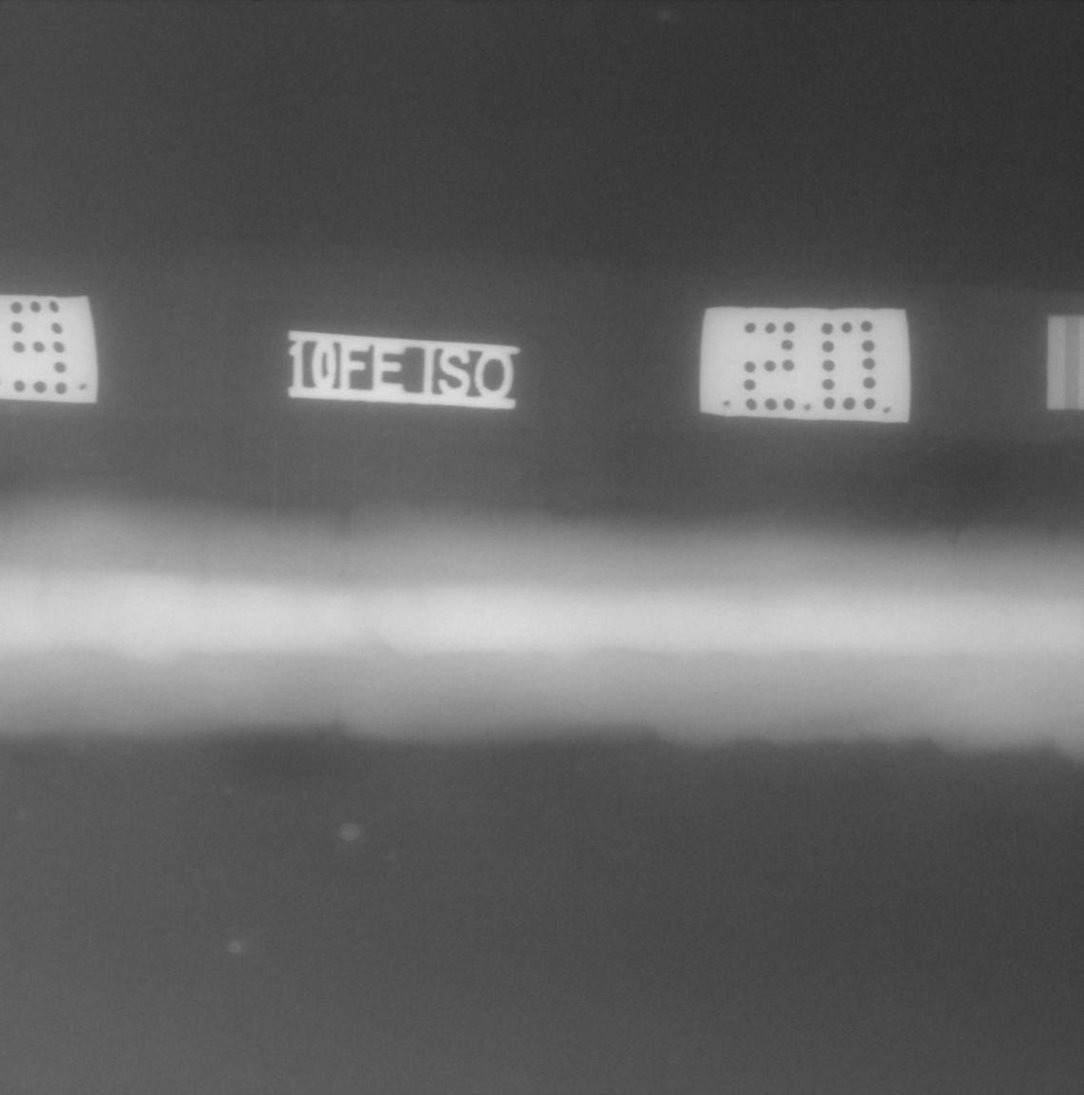Pore/Porosity: (337, 570, 346, 579)
